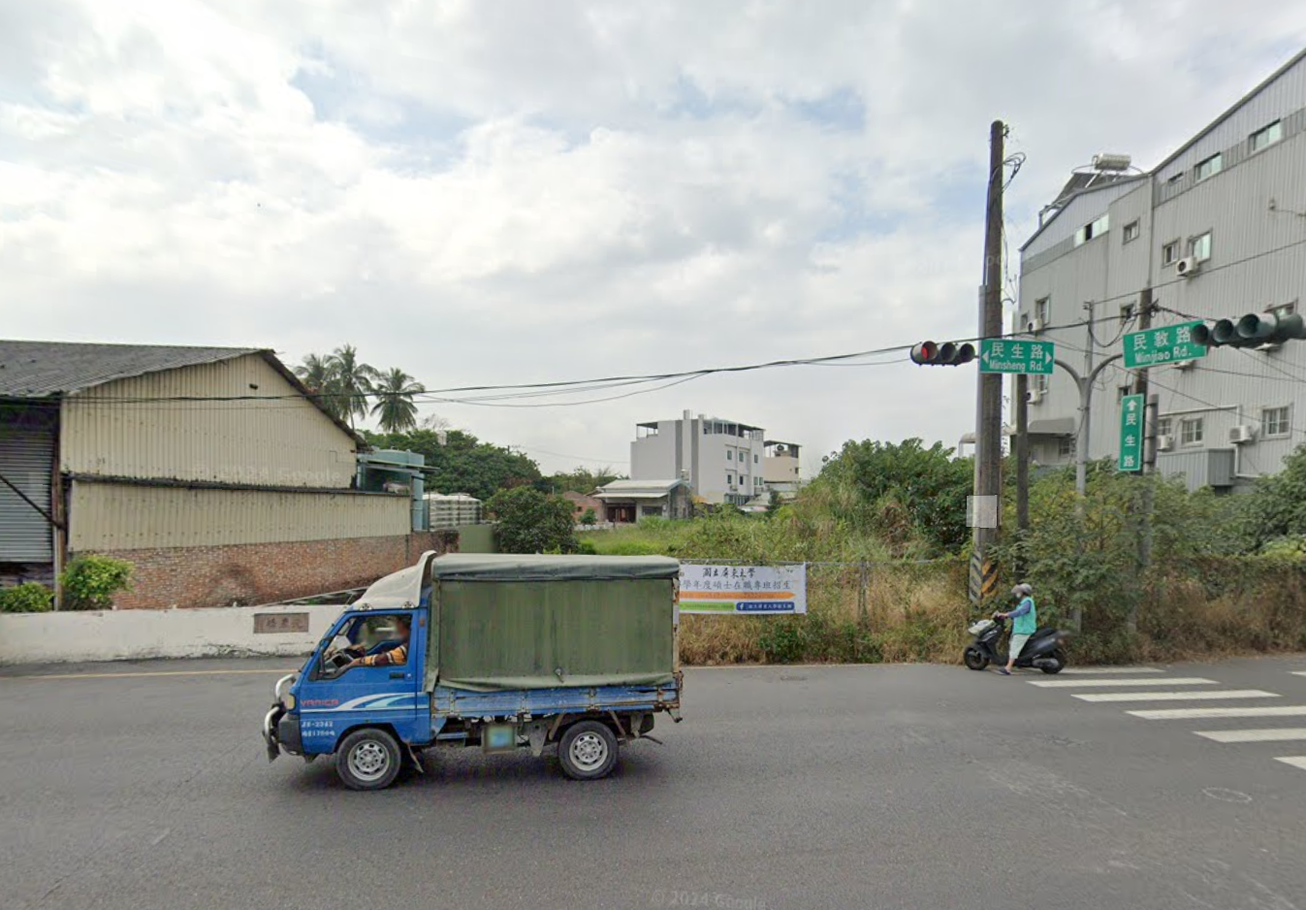red: (909, 332, 979, 372)
